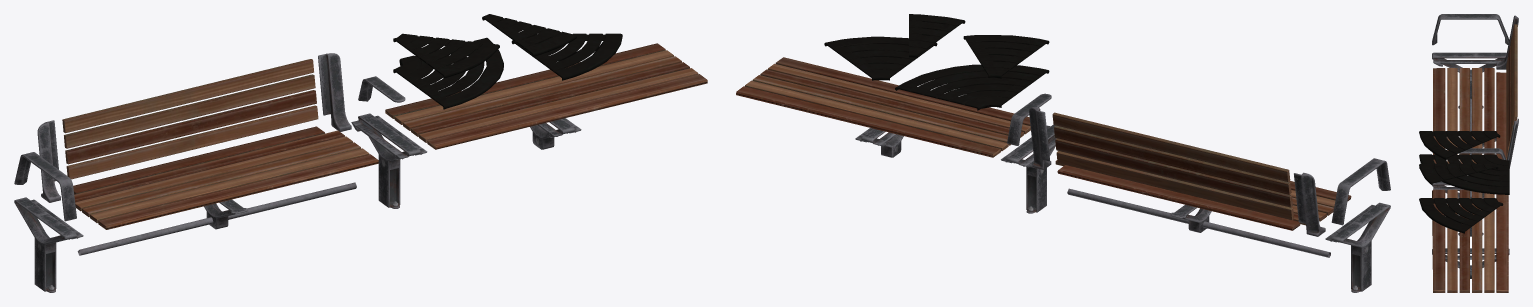
File: modular_street_seating.glb
The picture shows the model from 3 angles, left to right: view 1: azimuth 30°, elevation 25°; view 2: azimuth 150°, elevation 25°; view 3: azimuth 270°, elevation 25°; orthographic projection. The views are drawn at different scales.
Visible parts, largest first — view 1: seat_back, seat, seat_bench, connector_90, legs_double, legs_single, connector_45, connector_60, crossbar, connector_30, back_support_l, arm_rest_01 (+4 smaller); view 2: seat_bench, seat_back, connector_90, seat, connector_60, legs_single, connector_45, crossbar, legs_double, connector_30, arm_rest_01, back_support_r (+4 smaller); view 3: seat_bench, seat, connector_90, connector_60, connector_45, seat_back, legs_single, connector_30, arm_rest_01, arm_rest_02, back_support_r, suspended_support_02 (+3 smaller).
Part boxes in pixels (x1=…): seat_back: x1=62, y1=59, x2=318, y2=179; seat: x1=73, y1=126, x2=378, y2=229; seat_bench: x1=385, y1=43, x2=707, y2=149; connector_90: x1=393, y1=37, x2=503, y2=109; legs_double: x1=351, y1=113, x2=427, y2=208; legs_single: x1=14, y1=197, x2=83, y2=292; connector_45: x1=393, y1=33, x2=499, y2=78; connector_60: x1=511, y1=33, x2=622, y2=80; crossbar: x1=77, y1=182, x2=356, y2=255; connector_30: x1=482, y1=14, x2=576, y2=56; back_support_l: x1=318, y1=53, x2=351, y2=131; arm_rest_01: x1=14, y1=152, x2=76, y2=221; seat_bench: x1=736, y1=57, x2=1030, y2=157; seat_back: x1=1052, y1=112, x2=1294, y2=220; connector_90: x1=895, y1=64, x2=1049, y2=110; seat: x1=1055, y1=160, x2=1351, y2=230; connector_60: x1=824, y1=36, x2=937, y2=80; legs_single: x1=1325, y1=202, x2=1390, y2=292; connector_45: x1=963, y1=35, x2=1049, y2=78; crossbar: x1=1067, y1=188, x2=1330, y2=257; legs_double: x1=1001, y1=124, x2=1056, y2=213; connector_30: x1=909, y1=14, x2=965, y2=57; arm_rest_01: x1=1331, y1=158, x2=1390, y2=225; back_support_r: x1=1294, y1=172, x2=1325, y2=236; seat_bench: x1=1432, y1=189, x2=1508, y2=292; seat: x1=1433, y1=68, x2=1506, y2=163; connector_90: x1=1419, y1=154, x2=1509, y2=194; connector_60: x1=1419, y1=198, x2=1503, y2=233; connector_45: x1=1419, y1=131, x2=1500, y2=160; seat_back: x1=1506, y1=24, x2=1517, y2=157; legs_single: x1=1432, y1=52, x2=1506, y2=108; connector_30: x1=1419, y1=163, x2=1498, y2=185; arm_rest_01: x1=1432, y1=14, x2=1509, y2=45; arm_rest_02: x1=1459, y1=148, x2=1506, y2=160; back_support_r: x1=1496, y1=15, x2=1518, y2=69; suspended_support_02: x1=1432, y1=248, x2=1509, y2=278.
Size of the model in its own units: 4.34 by 0.95 by 0.7704.
Materials: 4 (4 with a texture image).
